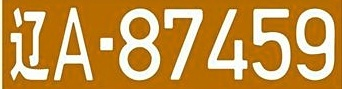A: (54, 8, 93, 80)
